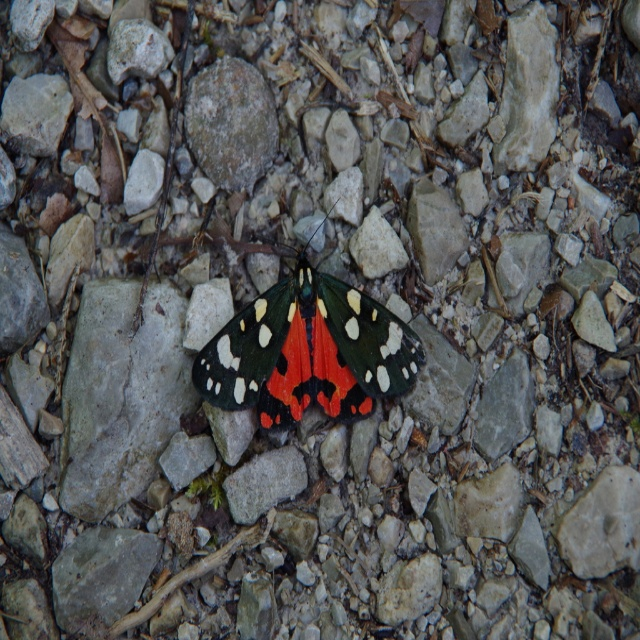Butterfly: (194, 196, 430, 425)
